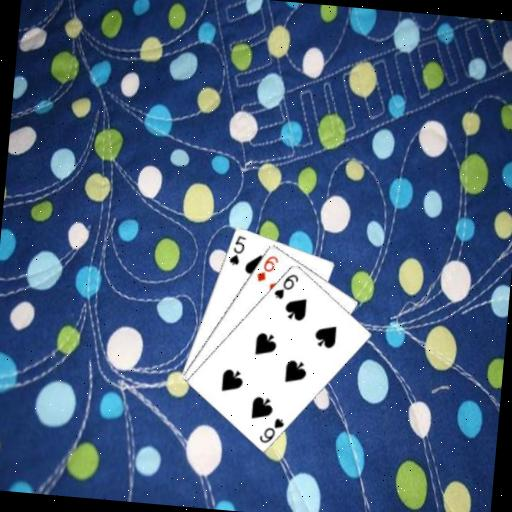5S: (225, 230, 247, 267)
6D: (253, 251, 281, 285)
6S: (256, 413, 287, 446), (271, 269, 301, 302)
